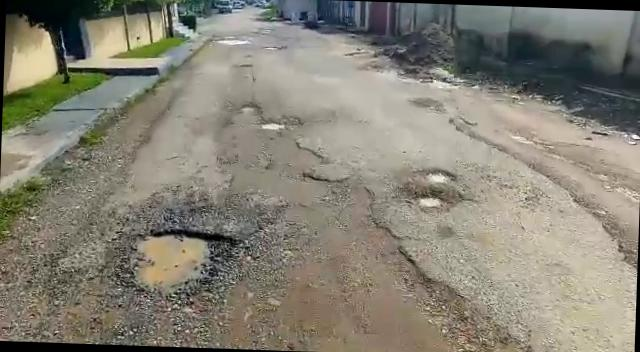pothole: (124, 228, 238, 302), (420, 169, 450, 185), (416, 196, 441, 210), (260, 119, 284, 132), (238, 103, 259, 114)
